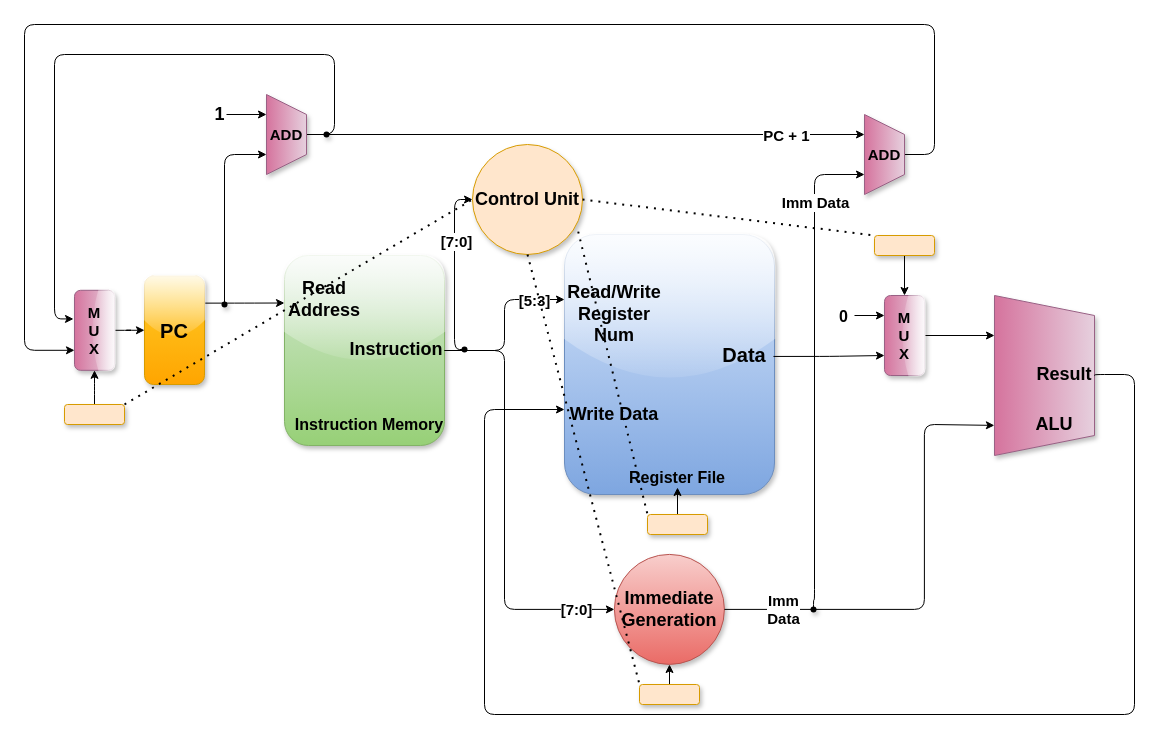
The diagram is 1160 pixels wide and 740 high, and some of its shapes have lost their labels. The shapes that lost their labels are listed below. From the top down, each one's centre as x and y in pixels, then its label:
At point 905,246: "ALU Src".
At point 95,416: "PC Src".
At point 678,526: "RegWrite".
At point 670,696: "Imm Sel".
